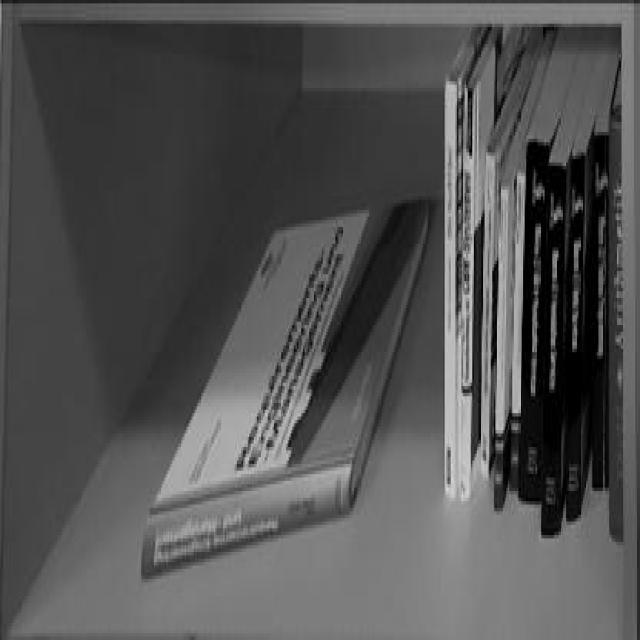book: (158, 187, 434, 573), (442, 65, 483, 502), (548, 192, 570, 534), (611, 117, 627, 535)
